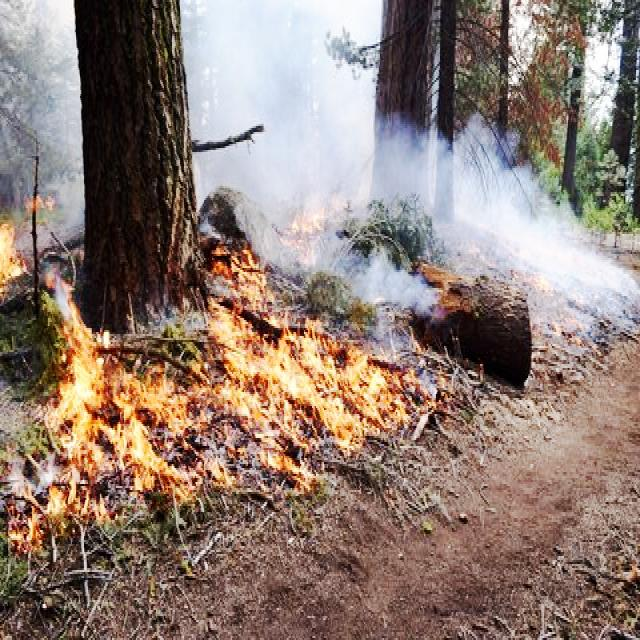api: (242, 308, 394, 476), (40, 332, 124, 523), (130, 370, 240, 492), (236, 254, 285, 325), (211, 292, 249, 359), (1, 207, 22, 295)
asap: (439, 118, 638, 336), (223, 1, 374, 187), (378, 108, 432, 235), (358, 248, 441, 329)
